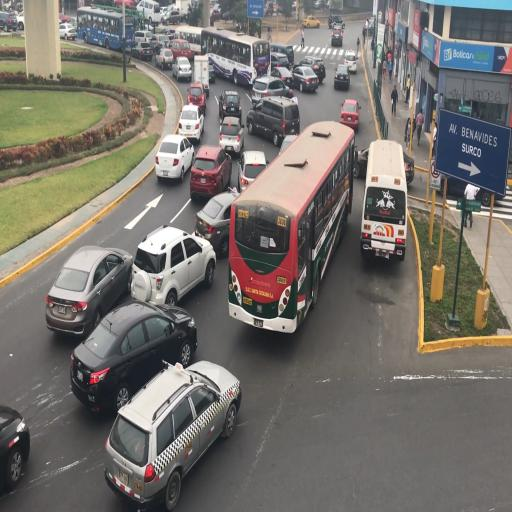auto: (104, 360, 241, 510), (70, 299, 198, 413), (44, 243, 132, 334), (131, 226, 214, 308), (194, 191, 240, 255), (246, 96, 298, 148), (0, 403, 29, 496), (190, 144, 232, 202), (154, 134, 196, 184), (238, 150, 268, 192), (176, 103, 203, 144), (218, 115, 244, 156), (218, 88, 242, 126), (297, 55, 326, 83), (186, 81, 207, 116), (268, 64, 294, 92), (339, 98, 359, 132), (155, 46, 174, 72), (333, 63, 350, 89), (0, 10, 19, 32), (160, 8, 180, 25), (59, 22, 77, 40), (158, 29, 176, 45), (328, 15, 345, 30), (302, 15, 320, 28), (331, 28, 343, 47), (345, 57, 357, 75), (344, 49, 356, 62)
bus: (228, 120, 349, 326), (361, 138, 408, 262), (203, 28, 266, 87), (78, 4, 136, 52), (174, 24, 208, 68), (136, 0, 162, 26)
camion: (269, 42, 295, 68), (194, 55, 210, 97)
